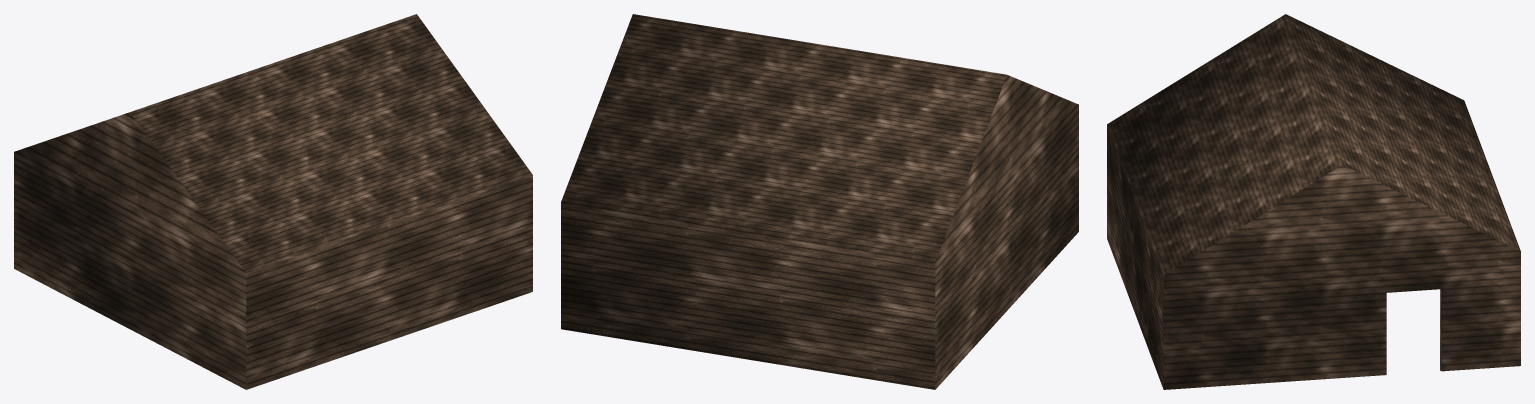
Rendered from house1.fbx.
3 views of the same model, side by side, from view 1: azimuth 30°, elevation 25°; view 2: azimuth 150°, elevation 25°; view 3: azimuth 270°, elevation 25° (orthographic). The views are drawn at different scales.
Parts seen in each view (by area): view 1: Plane_003; view 2: Plane_003; view 3: Plane_003.
Boxes of the visible parts, <box> form: Plane_003: <box>14,14,532,389</box>; Plane_003: <box>561,14,1078,389</box>; Plane_003: <box>1107,14,1520,389</box>.
Bounding box in the file's own units: 62.9 × 35.74 × 62.9.
2 materials, 2 textured.
